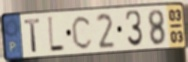2: (94, 12, 117, 51)
3: (124, 9, 144, 49)
8: (146, 8, 167, 47)
C: (70, 14, 94, 51)
L: (46, 15, 66, 55)
T: (23, 18, 42, 54)
